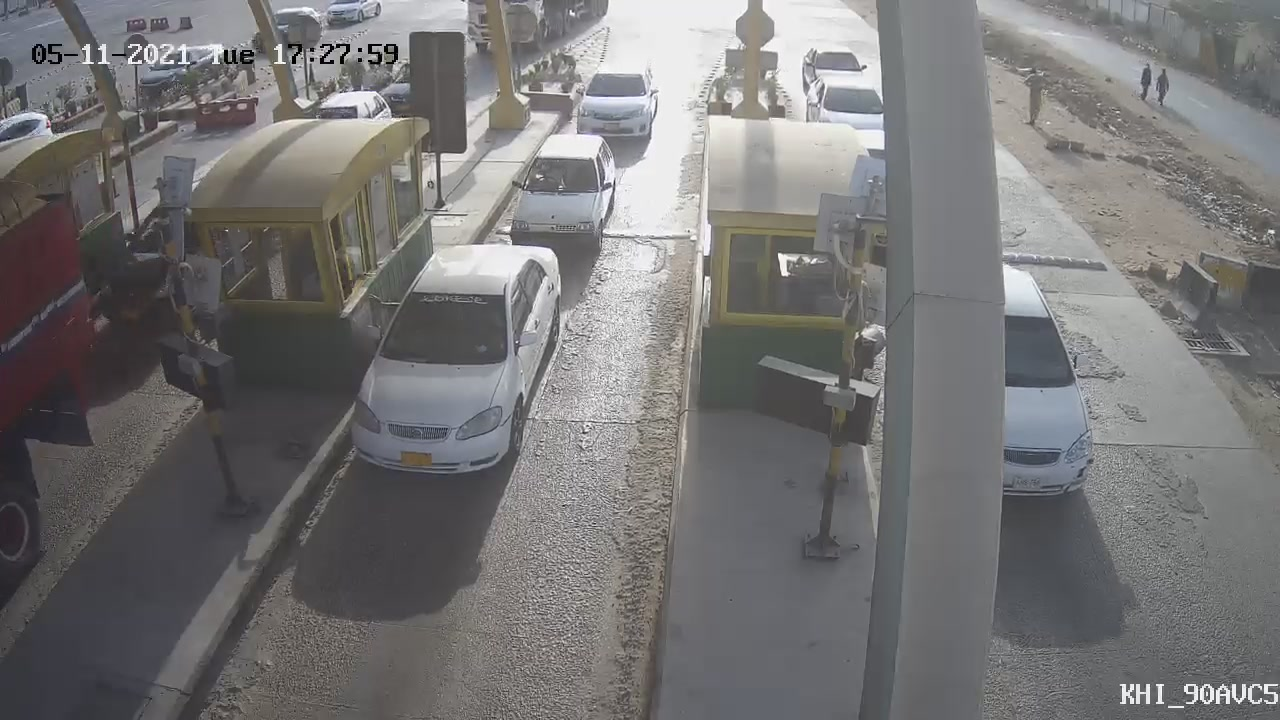F1: (334, 230, 579, 498), (495, 125, 625, 273), (557, 49, 666, 162)
